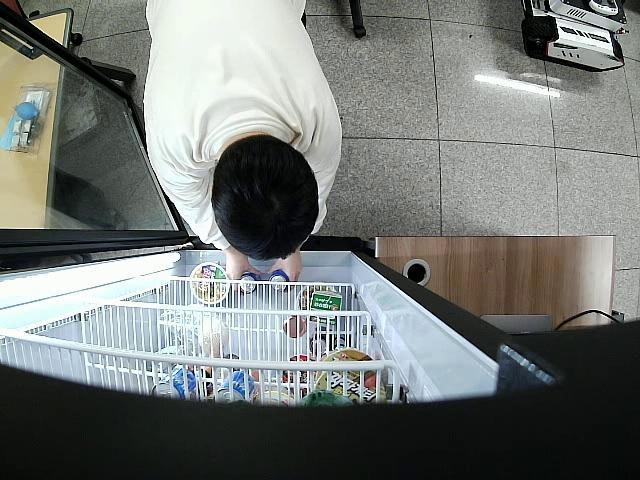13_pocariSweat: (270, 270, 290, 292), (241, 272, 261, 292)
